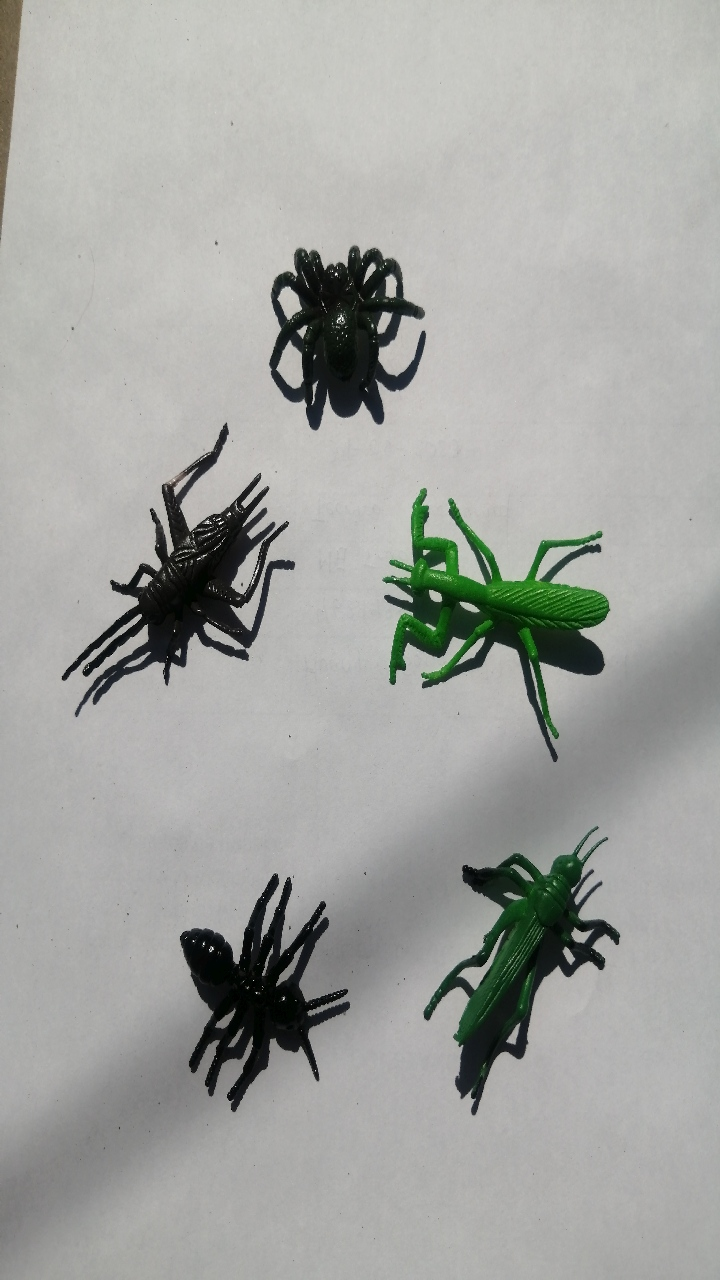intruso: (335, 454, 626, 752), (54, 405, 295, 754), (415, 779, 629, 1159), (126, 849, 352, 1174), (252, 200, 429, 452)
